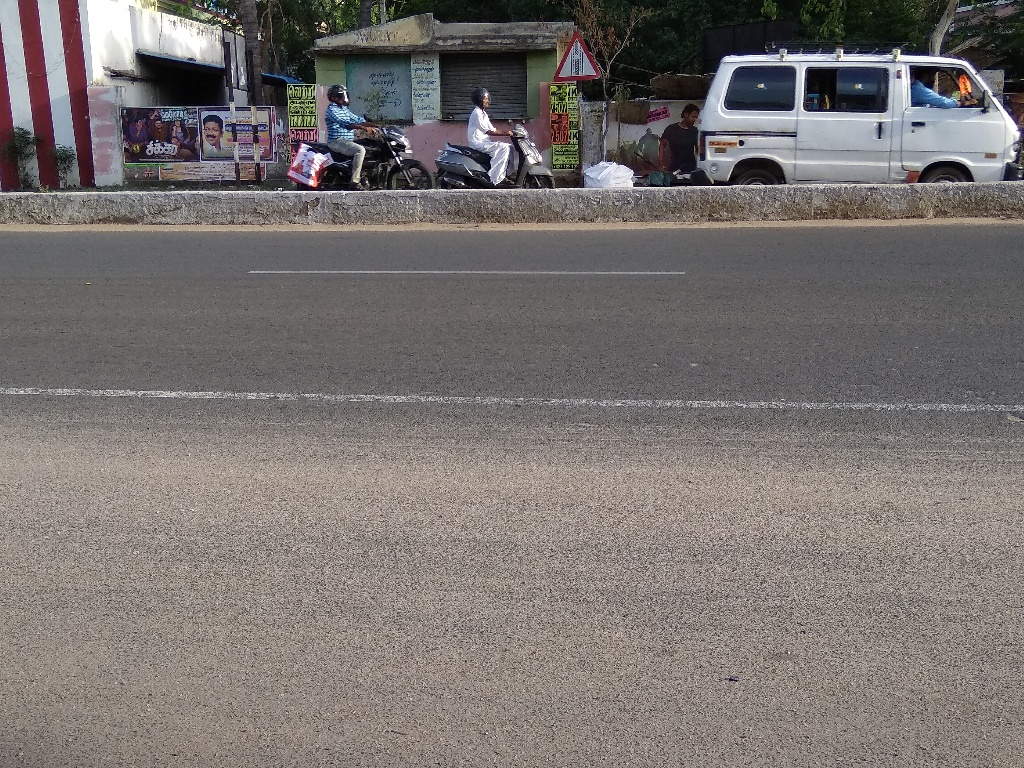biker: (277, 61, 436, 192), (433, 65, 560, 193)
helmet: (320, 75, 358, 112), (465, 76, 503, 113)
